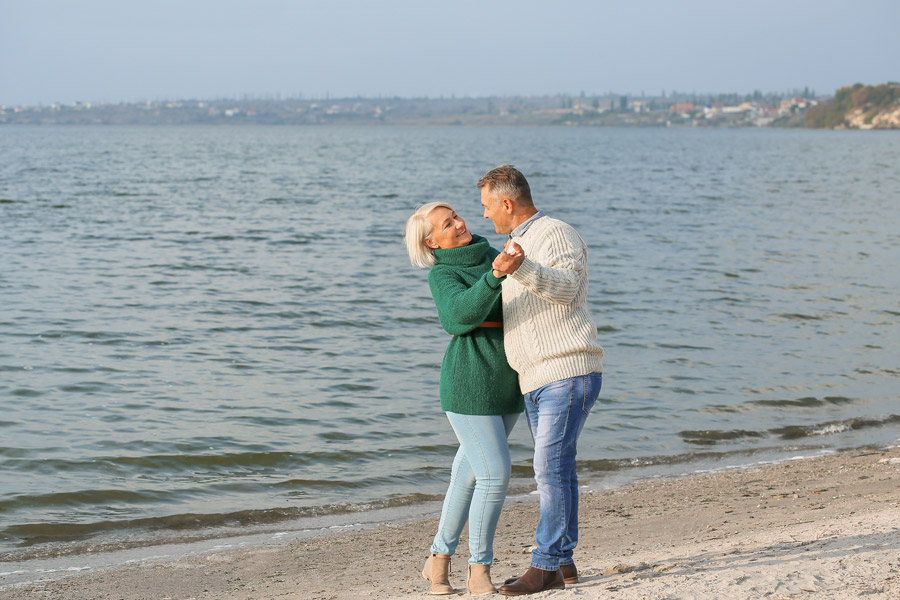female: (405, 201, 503, 600)
male: (478, 164, 607, 597)
